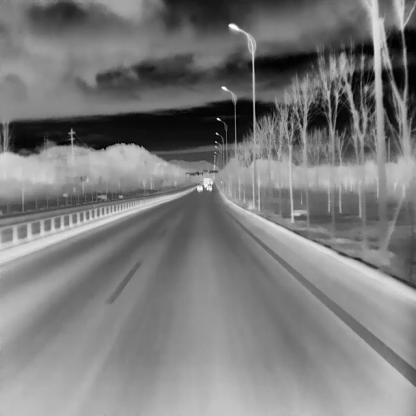car: (203, 177, 209, 187), (196, 185, 202, 190), (206, 184, 211, 189)
